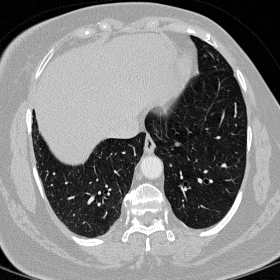nodule: (175, 142, 179, 146)
